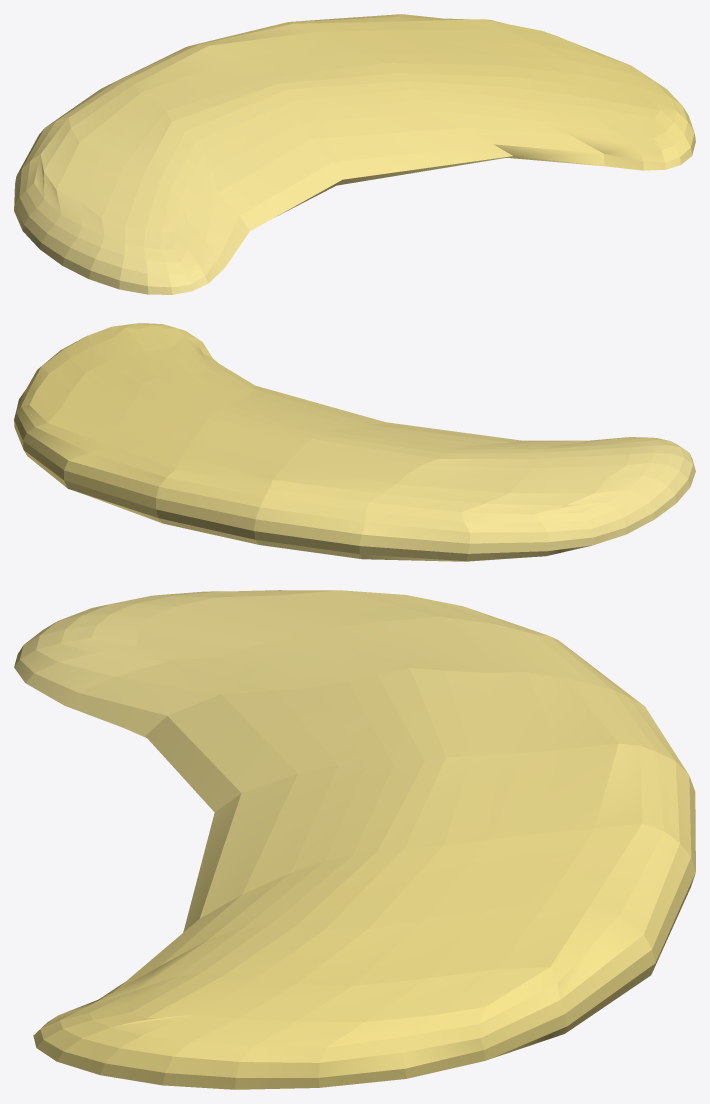
Rendered from Sand Beach2.fbx.
3 renders of one model, top to bottom at view 1: azimuth 30°, elevation 25°; view 2: azimuth 150°, elevation 25°; view 3: azimuth 270°, elevation 25°, orthographic. The views are drawn at different scales.
Visible parts, largest first — view 1: Sand_1; view 2: Sand_1; view 3: Sand_1.
Part boxes in pixels (left/top/right/bottom): Sand_1: left=14, top=14, right=695, bottom=294; Sand_1: left=14, top=323, right=695, bottom=561; Sand_1: left=14, top=590, right=695, bottom=1089.
Size of the model in its own units: 3828 by 316 by 2315.
